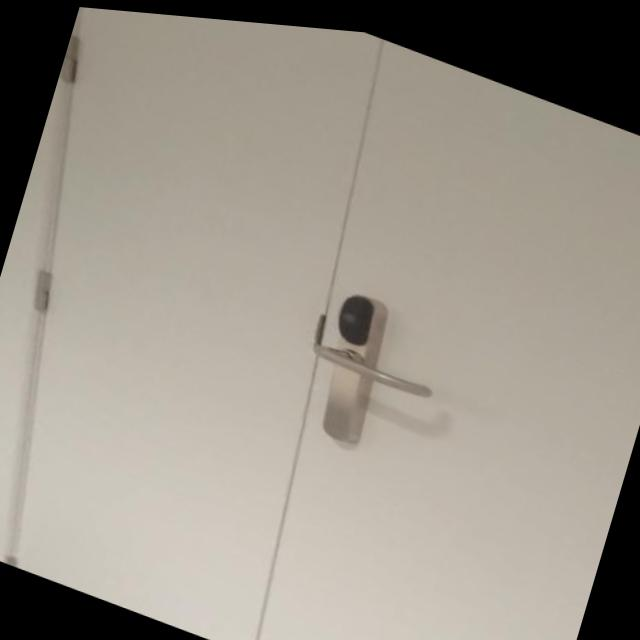door_handle: (299, 321, 443, 401)
